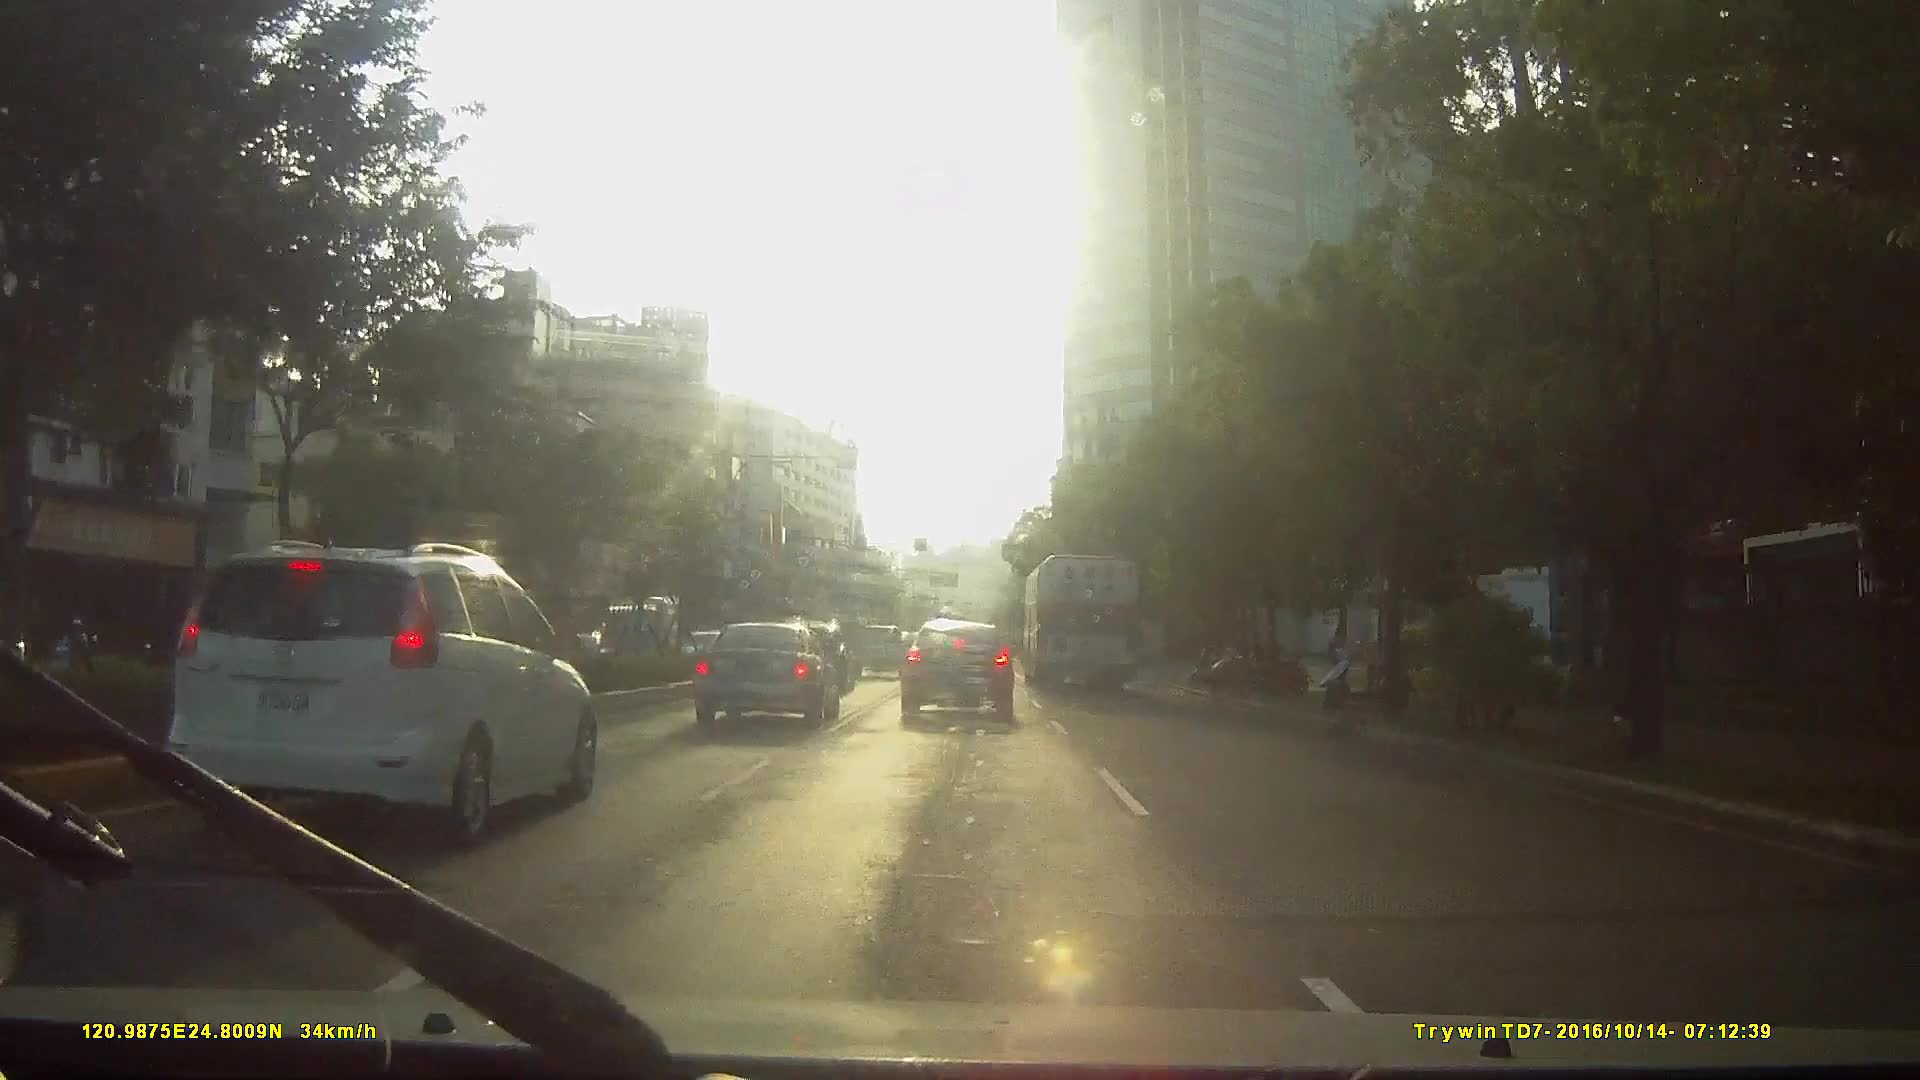vehicle: (145, 533, 607, 855), (251, 556, 684, 868), (1019, 542, 1142, 691), (683, 618, 837, 729), (897, 613, 1017, 727), (584, 589, 673, 667), (847, 618, 907, 676)
